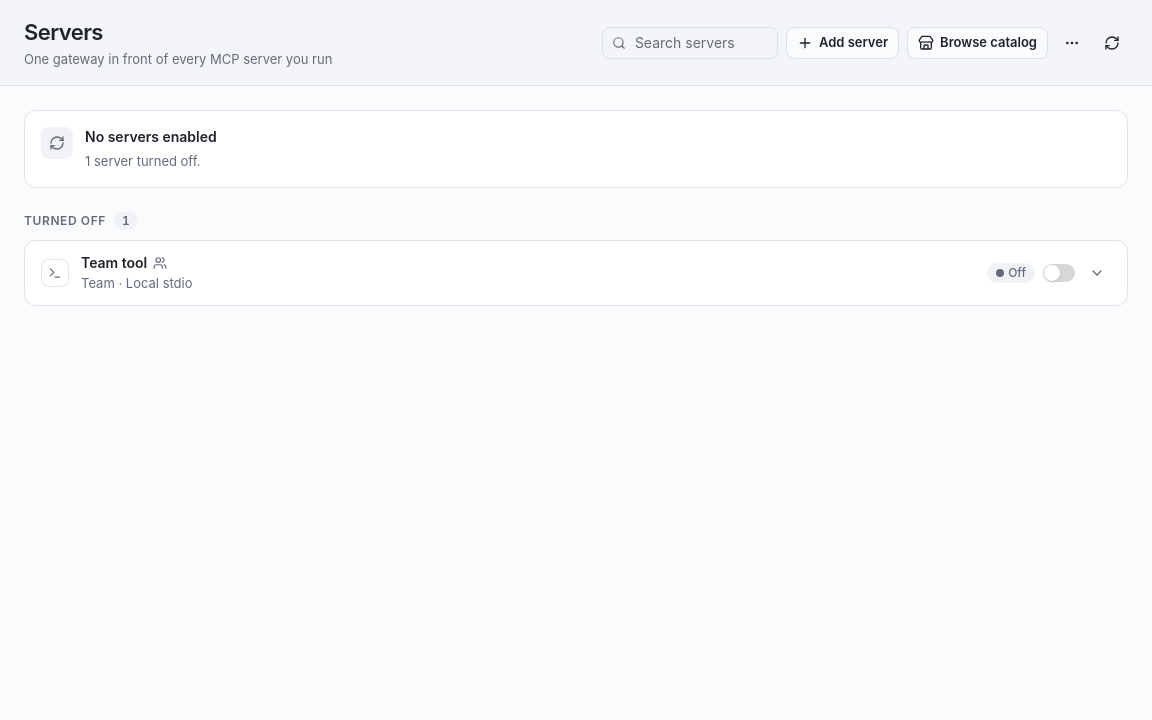
team enable review dialog › closes after a successful retry and enables the server
What coordinates should you click on to do the following:
click the switch named "Toggle Team tool"
I would click on:
 (1059, 273)
Its box is [1043, 264, 1075, 282].
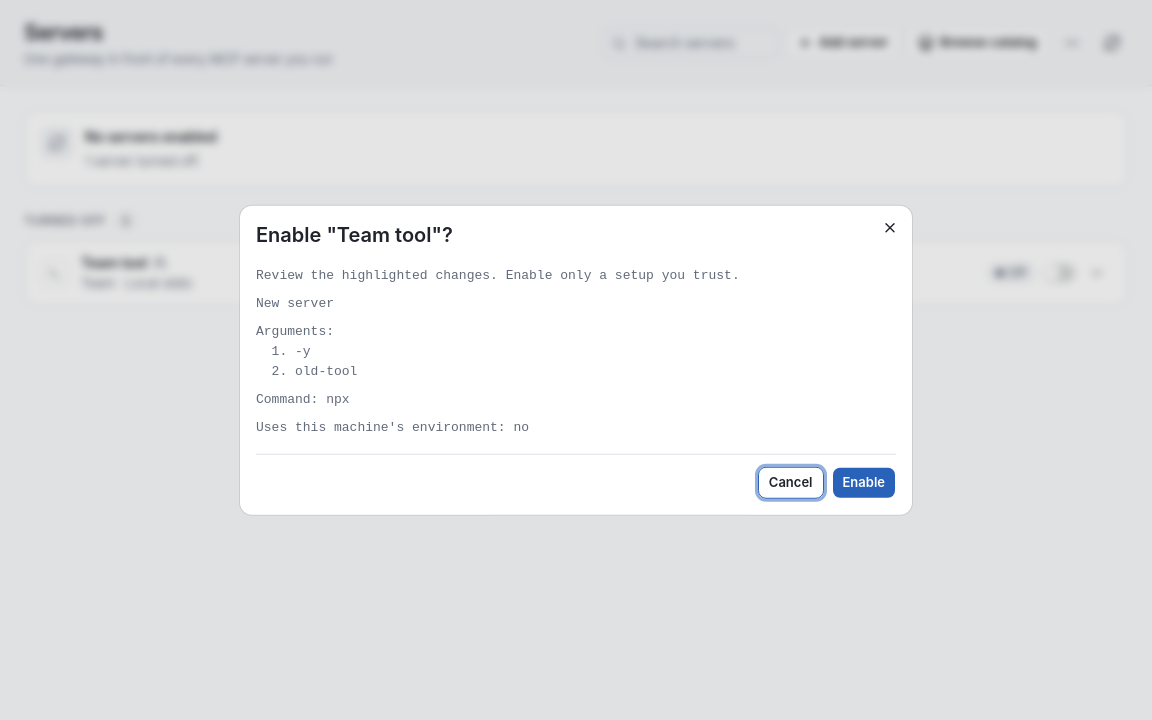
Check: the button "Enable" is enabled
What coordinates should you click on to do the following:
click the button "Enable"
I would click on:
 (864, 482)
Its box is [832, 466, 896, 498].
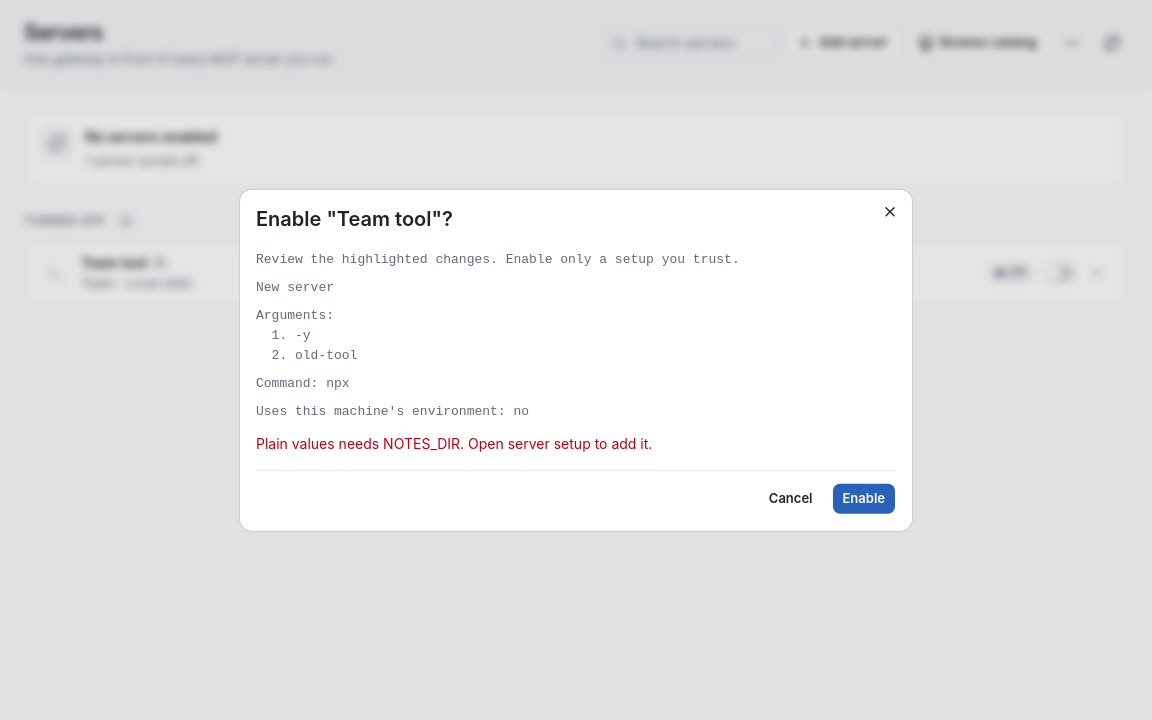
Check: the message "Plain values needs NOTES_DIR. Open server setup to add it." is shown, box [256, 434, 652, 451]
What coordinates should you click on to do the following:
click the button "Enable"
I would click on:
 (864, 498)
Its box is [832, 482, 896, 514].
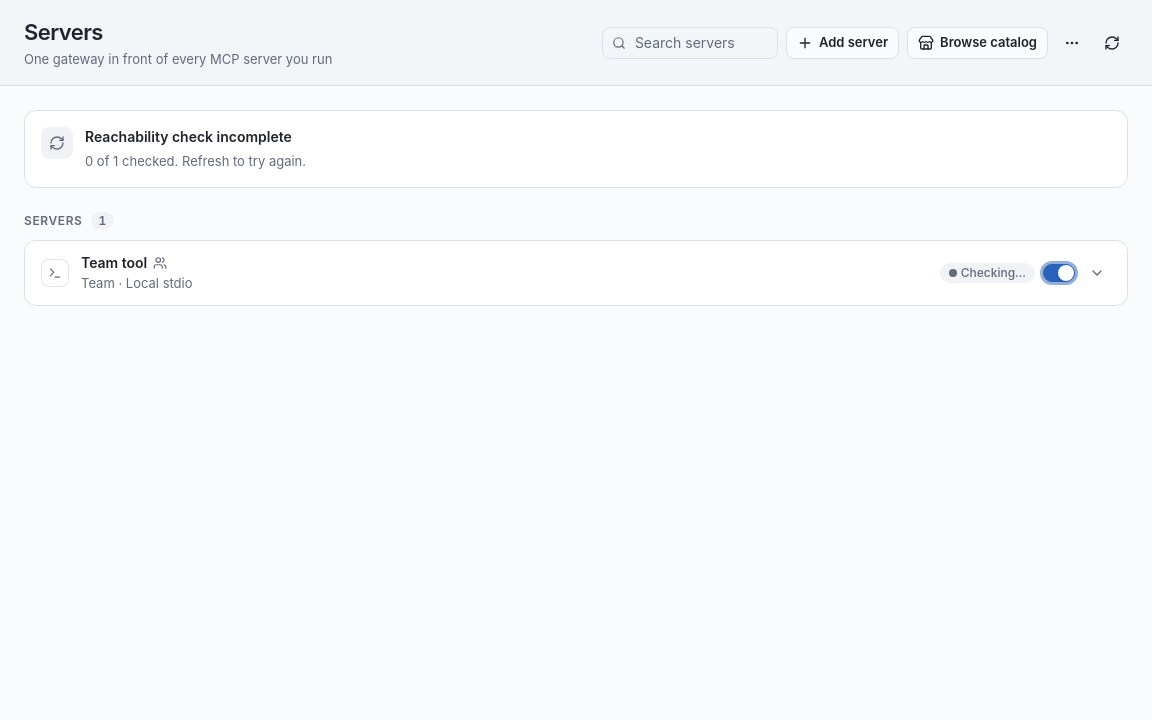
Check: the dialog is gone
Check: the message "Plain values needs NOTES_DIR. Open server setup to add it." is gone
